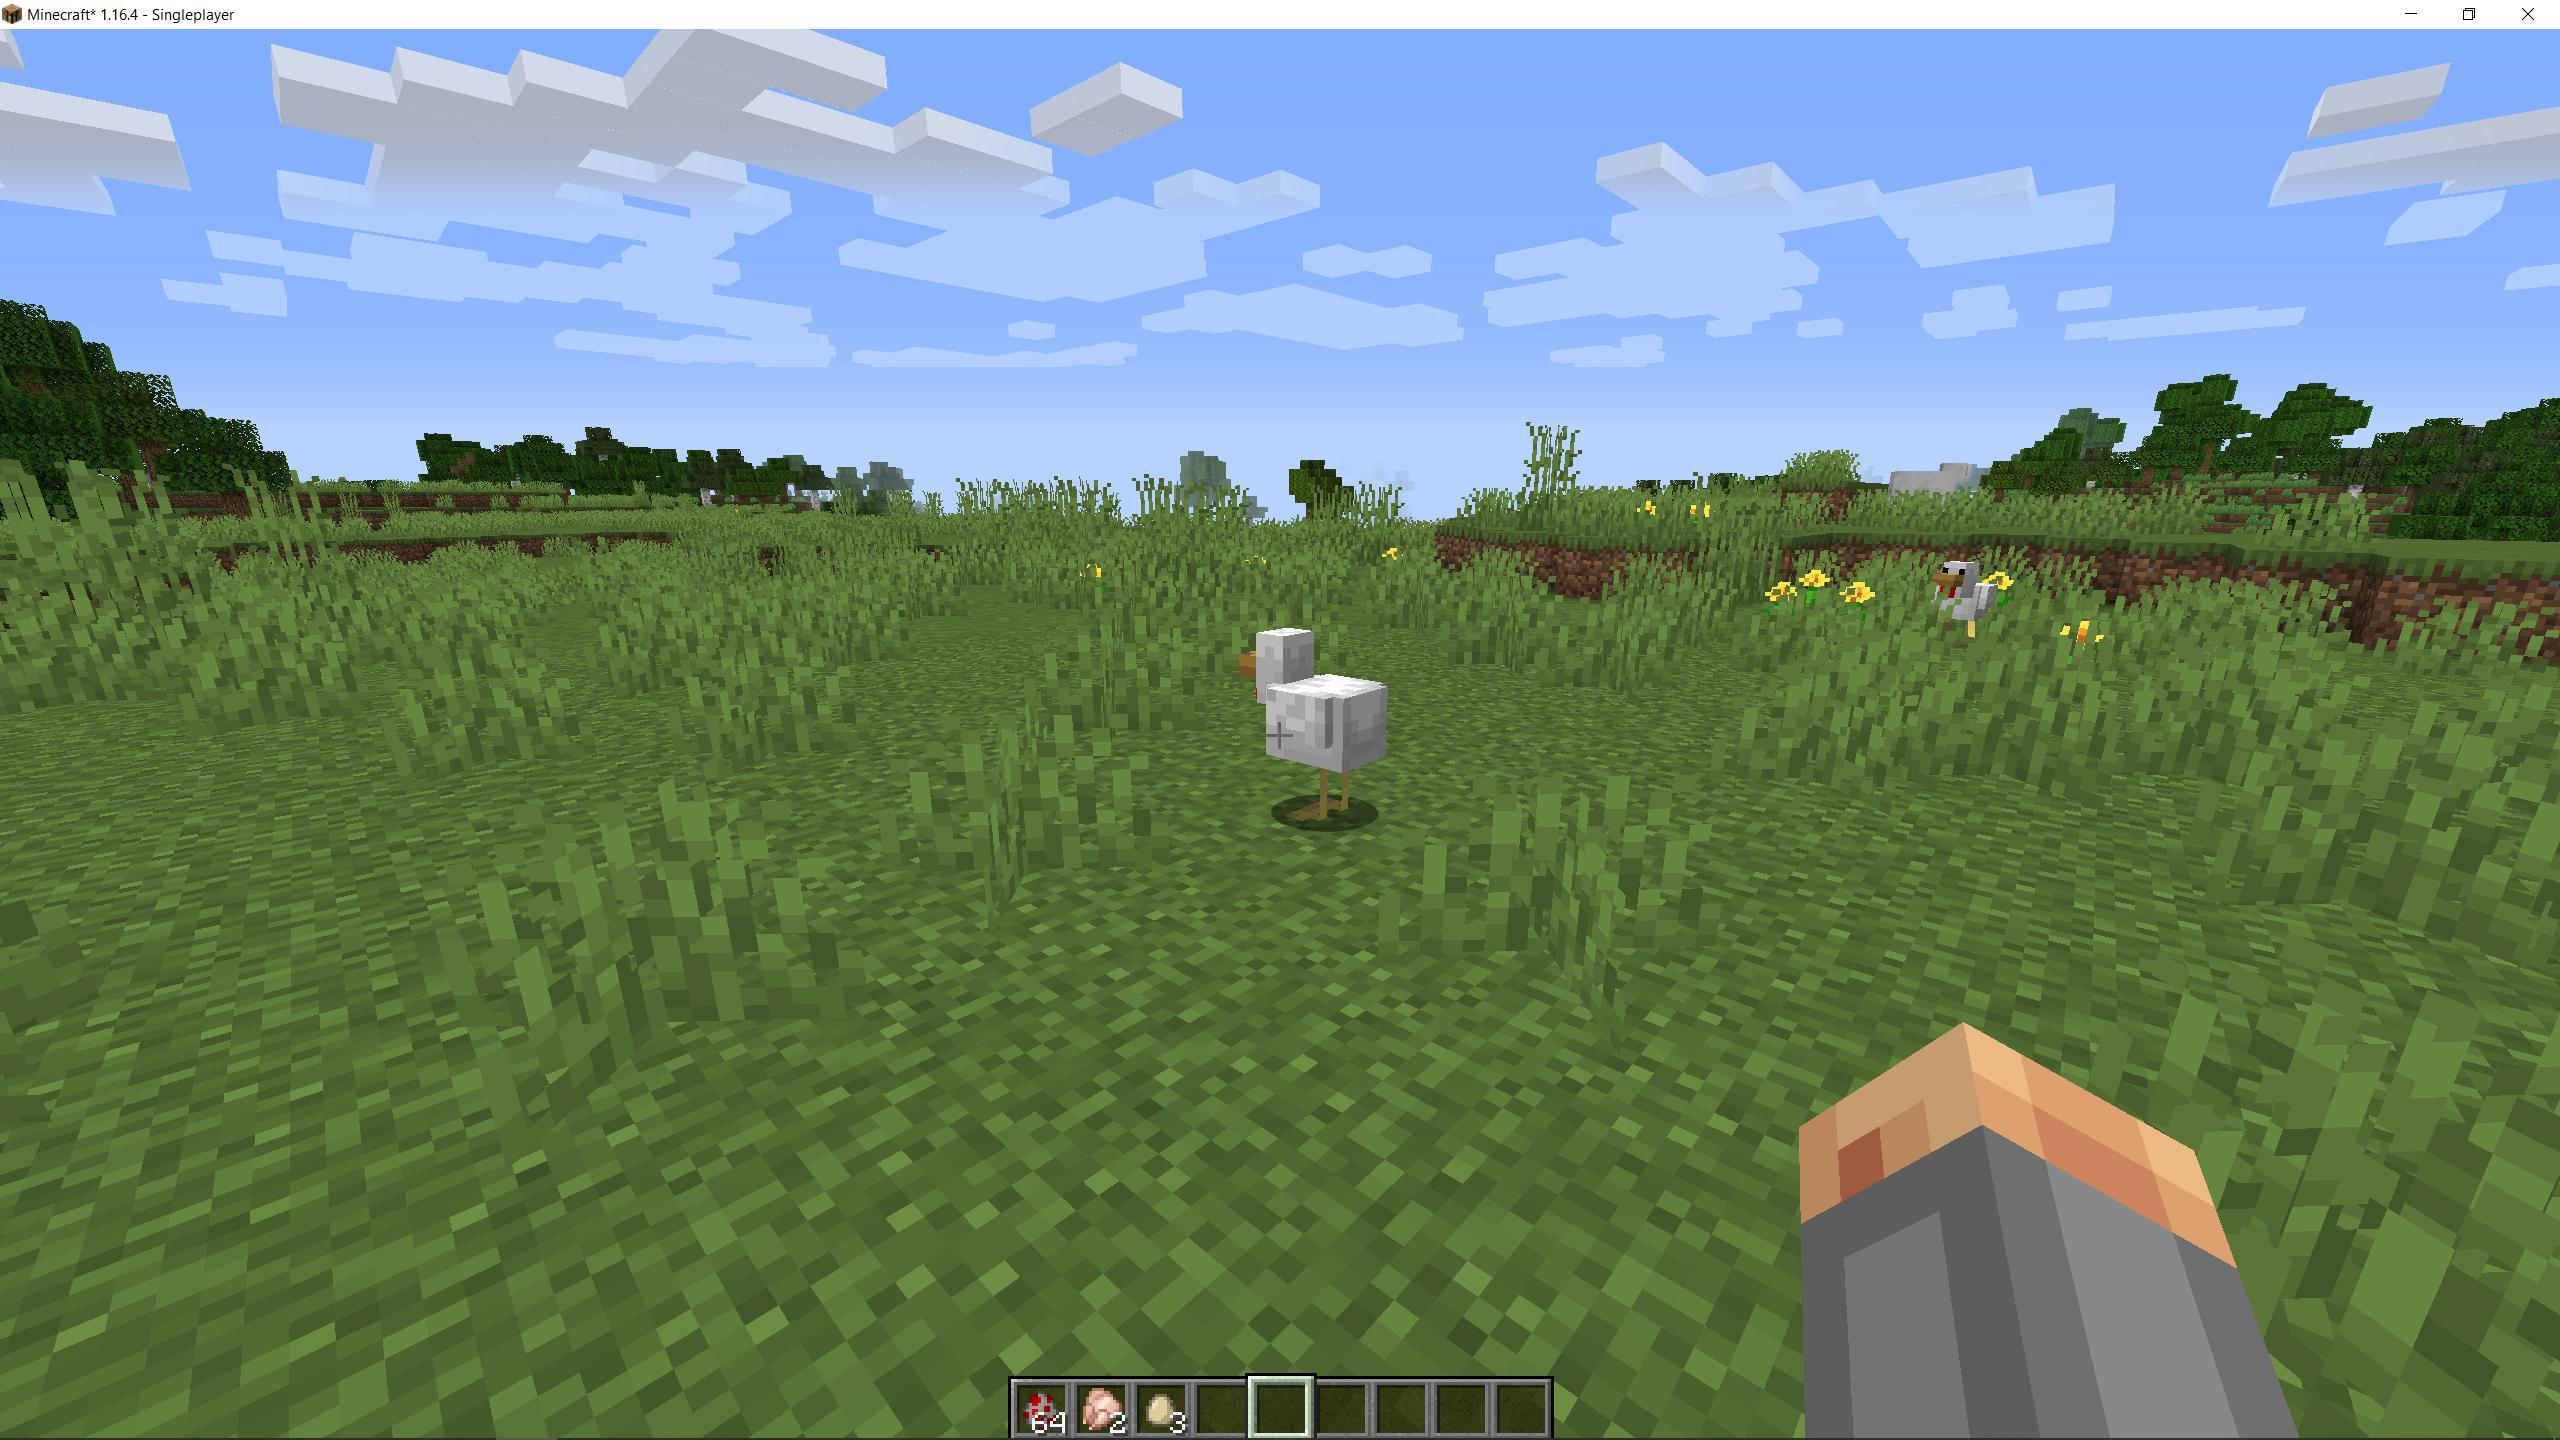chicken: (1227, 615, 1410, 835), (1929, 556, 2003, 659)
